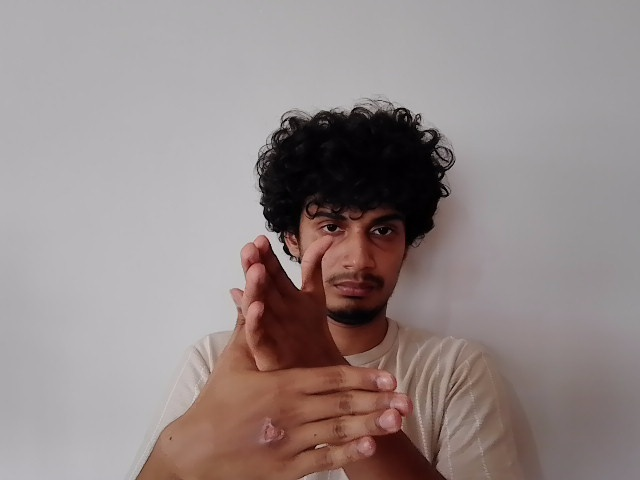busy: (167, 233, 416, 480)
